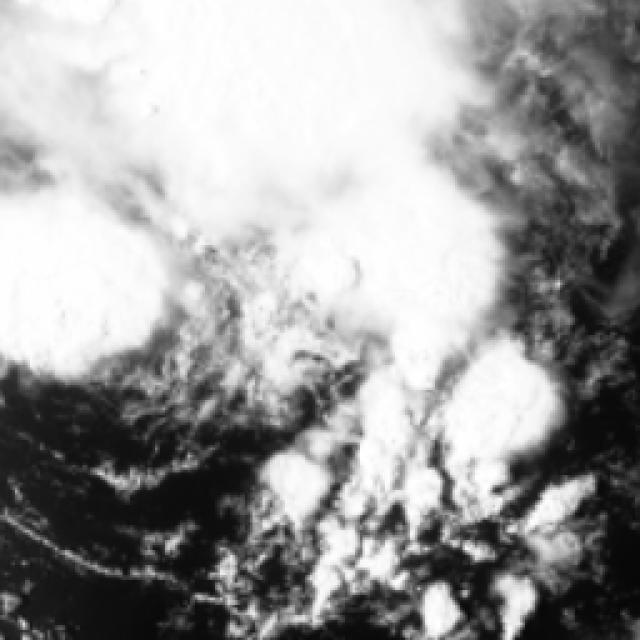CB: (163, 0, 405, 153), (348, 175, 457, 302), (3, 225, 118, 341)
